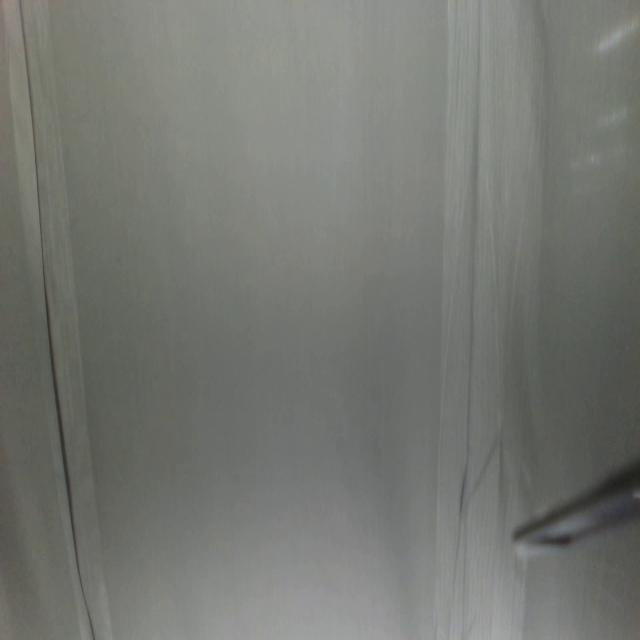crease: (14, 1, 101, 640), (439, 0, 498, 636)
